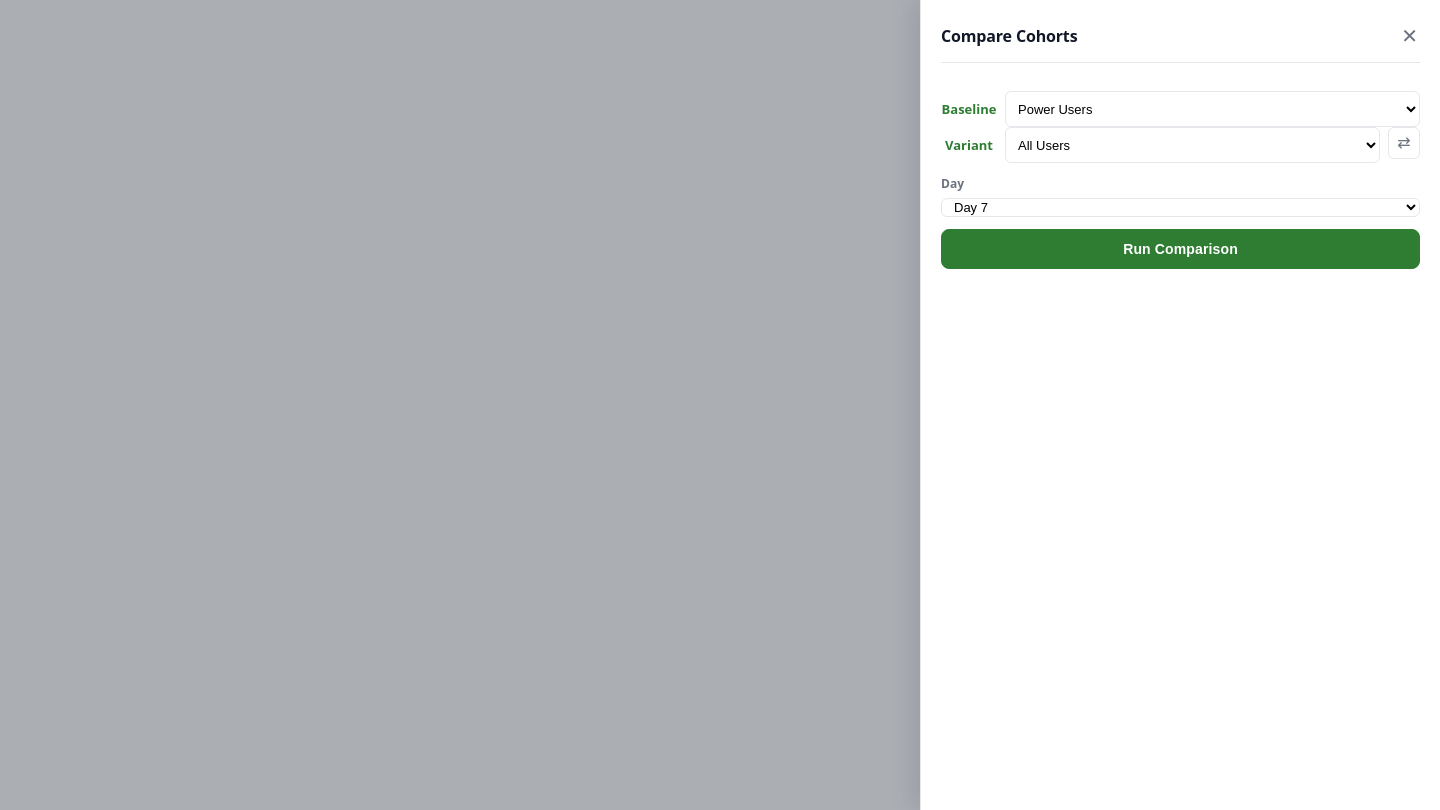
Test: ComparePane › results_render_correctly – result data appears after running
The image size is (1440, 810).
Select "All Users" in the dropdown with test id "compare-cohort-a". click: [1192, 145]
box: [1005,127,1380,163]
Select "Power Users" in the dropdown with test id "compare-cohort-b". click: [1212, 109]
box: [1005,91,1420,127]
Click the button with test id "compare-run-button". click: [1180, 249]
box: [941,229,1420,269]
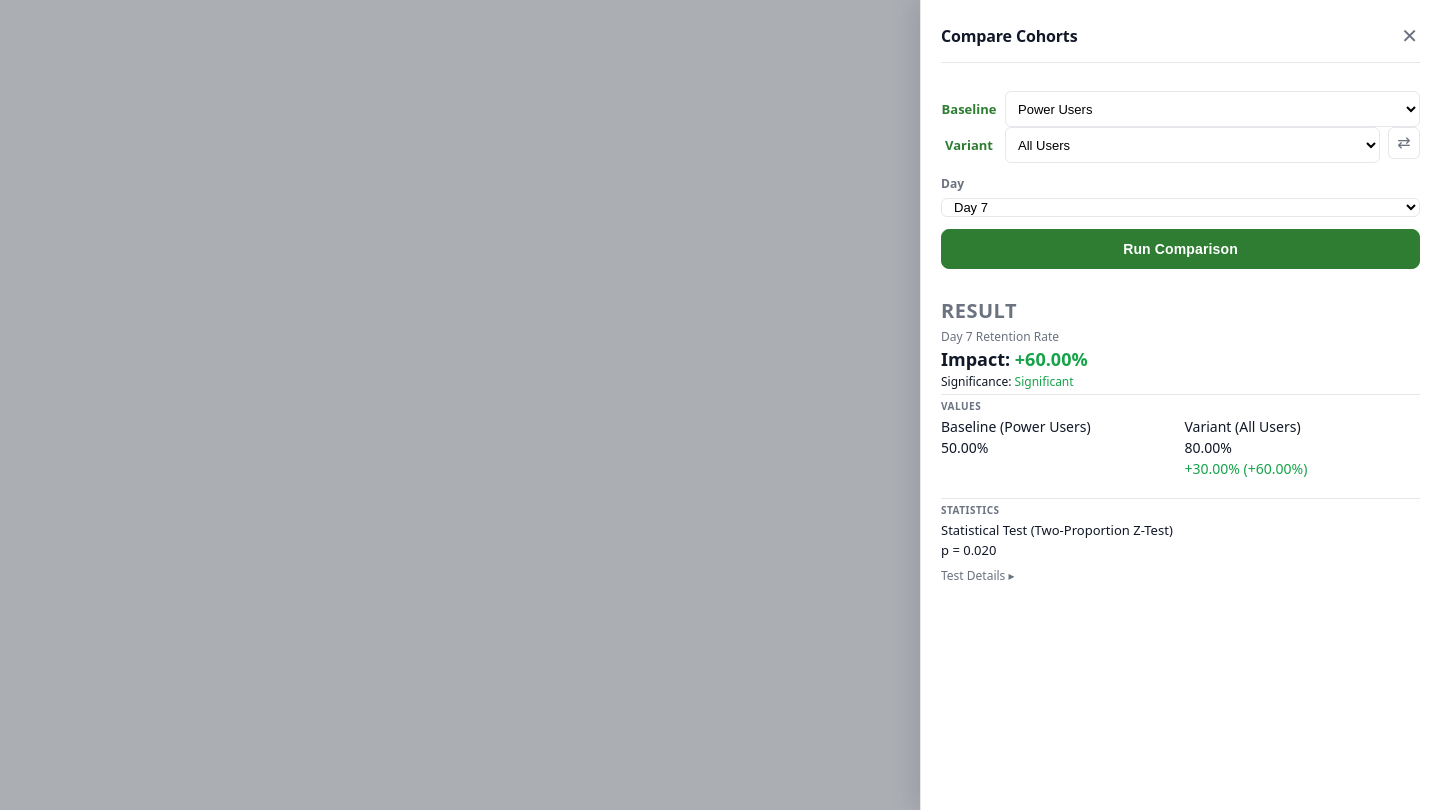
Now the element with test id "compare-results" is shown, box [941,297,1307,584]
Now the text with test id "compare-p-value" shows "0.020", box [963,541,996,559]
Now the text "Significant" is shown, box [1015,373,1074,390]
